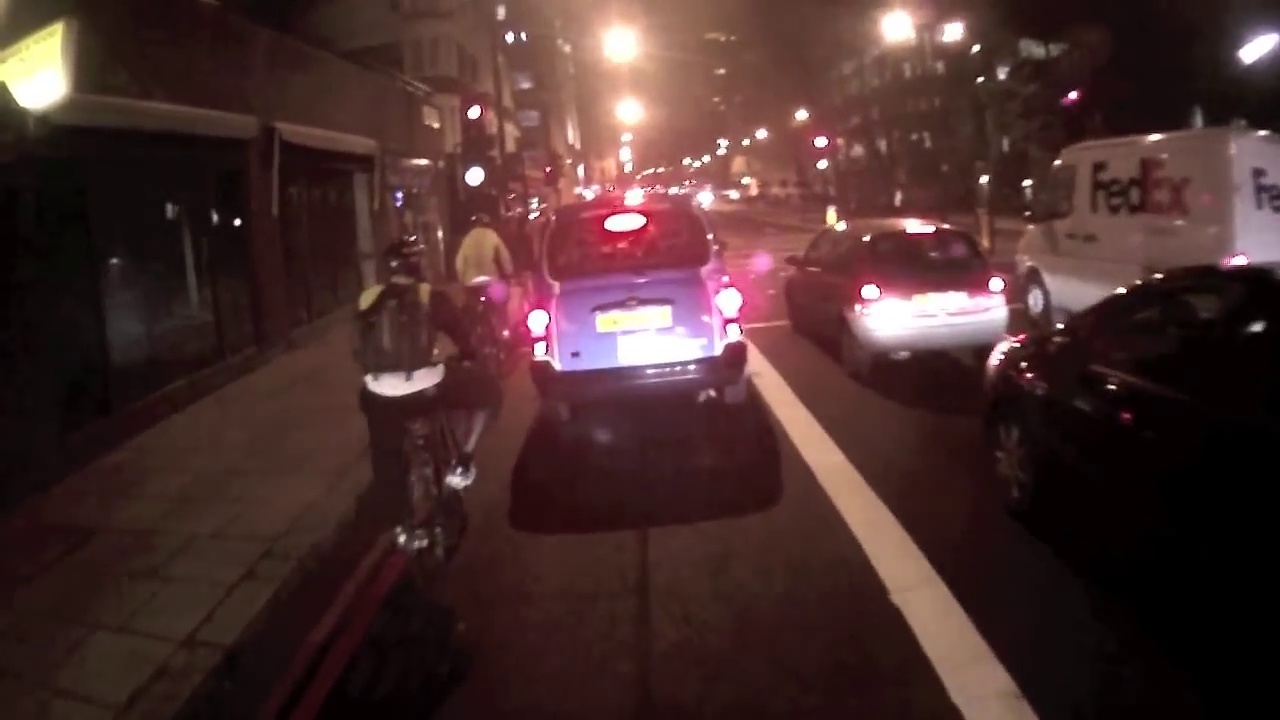cyclist_back: (348, 223, 466, 582), (460, 194, 517, 385)
